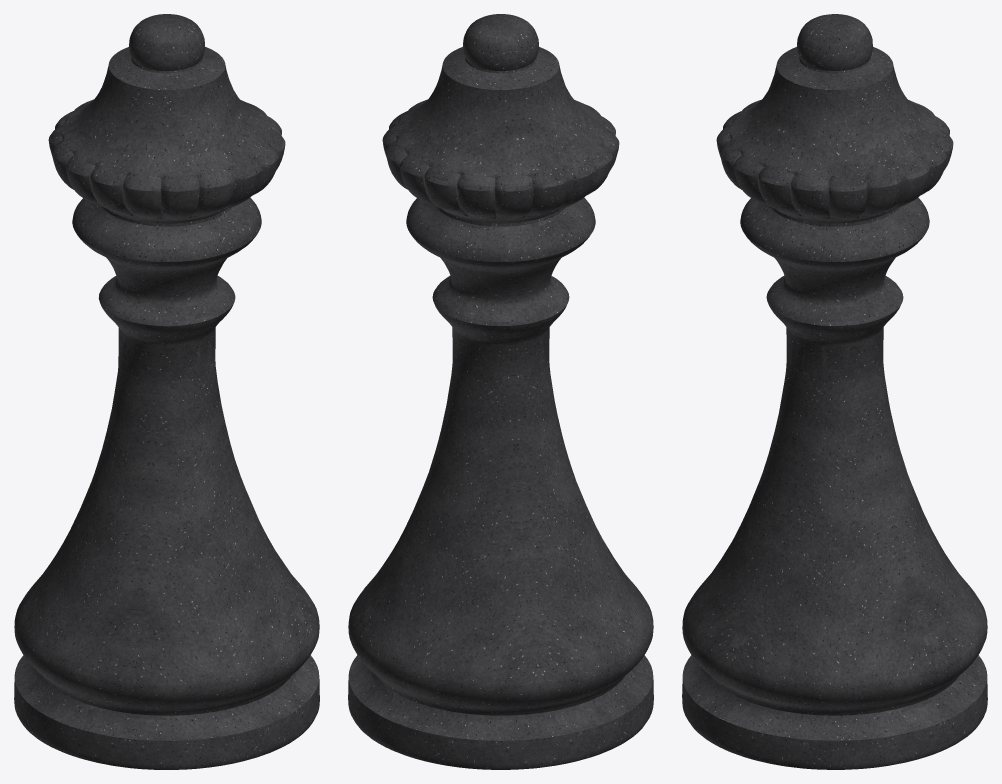
File: queen-black-hd.glb
The picture shows the model from 3 angles, left to right: view 1: azimuth 30°, elevation 25°; view 2: azimuth 150°, elevation 25°; view 3: azimuth 270°, elevation 25°; orthographic projection.
Parts seen in each view (by area): view 1: dama_cerna; view 2: dama_cerna; view 3: dama_cerna.
Boxes of the visible parts, box(x1,y1,x2,y2) form: dama_cerna: box(14, 14, 319, 769); dama_cerna: box(348, 14, 653, 769); dama_cerna: box(682, 14, 987, 769).
Bounding box in the file's own units: 0.5941 × 1.49 × 0.5941.
Materials: 1 (1 with a texture image).
